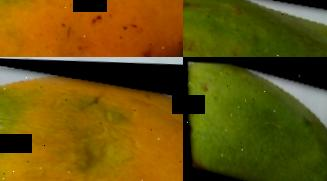Ripe: (0, 60, 183, 181), (0, 0, 183, 57)
Unripe: (183, 57, 327, 181), (183, 0, 327, 57)
